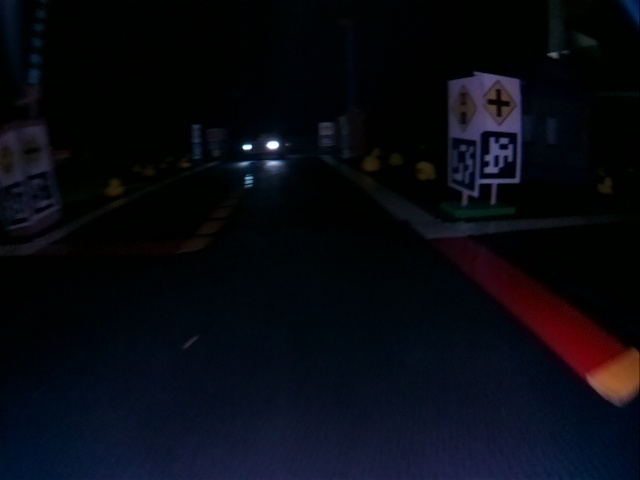Duckie: (105, 179, 125, 198), (415, 162, 435, 180), (597, 178, 612, 194), (362, 158, 379, 172), (390, 155, 402, 165), (144, 166, 154, 175), (183, 159, 191, 168)
Duckiebot: (242, 133, 288, 157)
Intersection sign: (484, 77, 519, 128), (19, 127, 51, 170)
QR code: (481, 133, 520, 183), (450, 138, 476, 192), (3, 181, 30, 226)
Signal sign: (449, 84, 478, 133)
